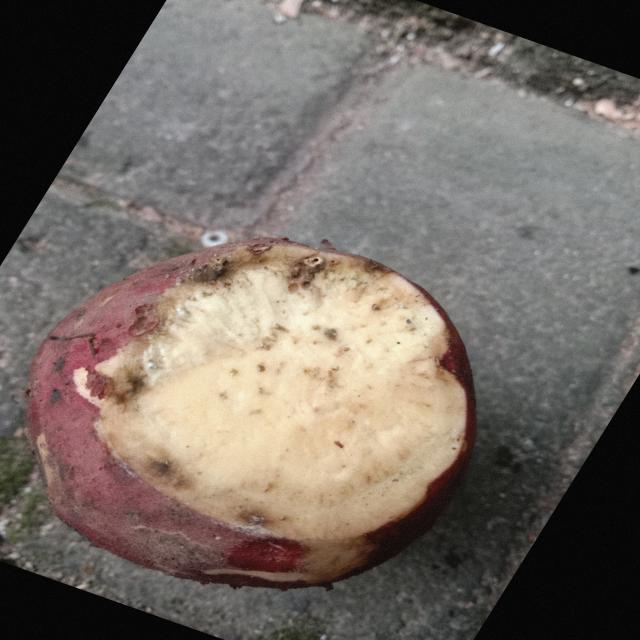Sick Sweet Potato_Tuber Rot: (95, 242, 467, 539)
